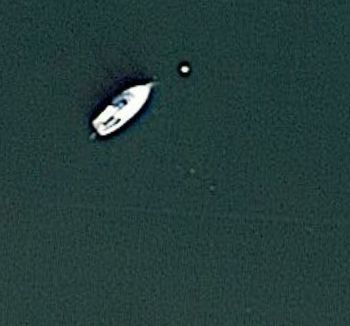boat: (90, 76, 159, 138)
